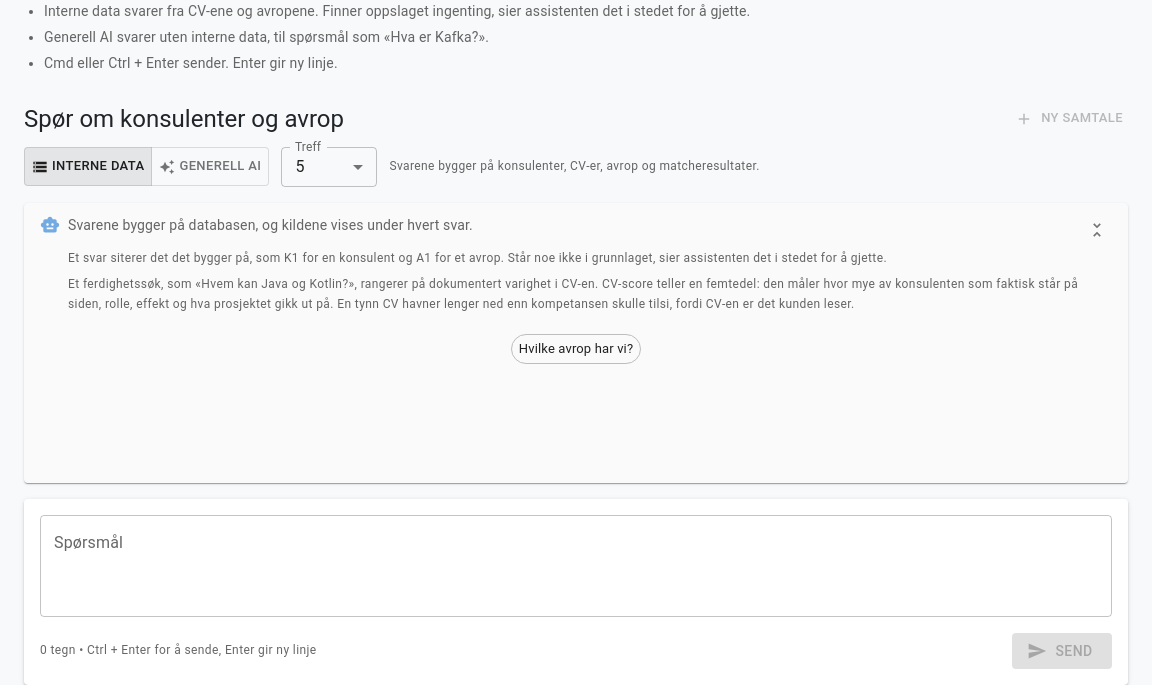
Test: ChatAssistantPage › does not repeat a compared consultant as a source chip
(page scrolled)
Replace the text in the text box labelled "Spørsmål" with "Hvem passer best?" at (576,566), box [54,531,1098,600]
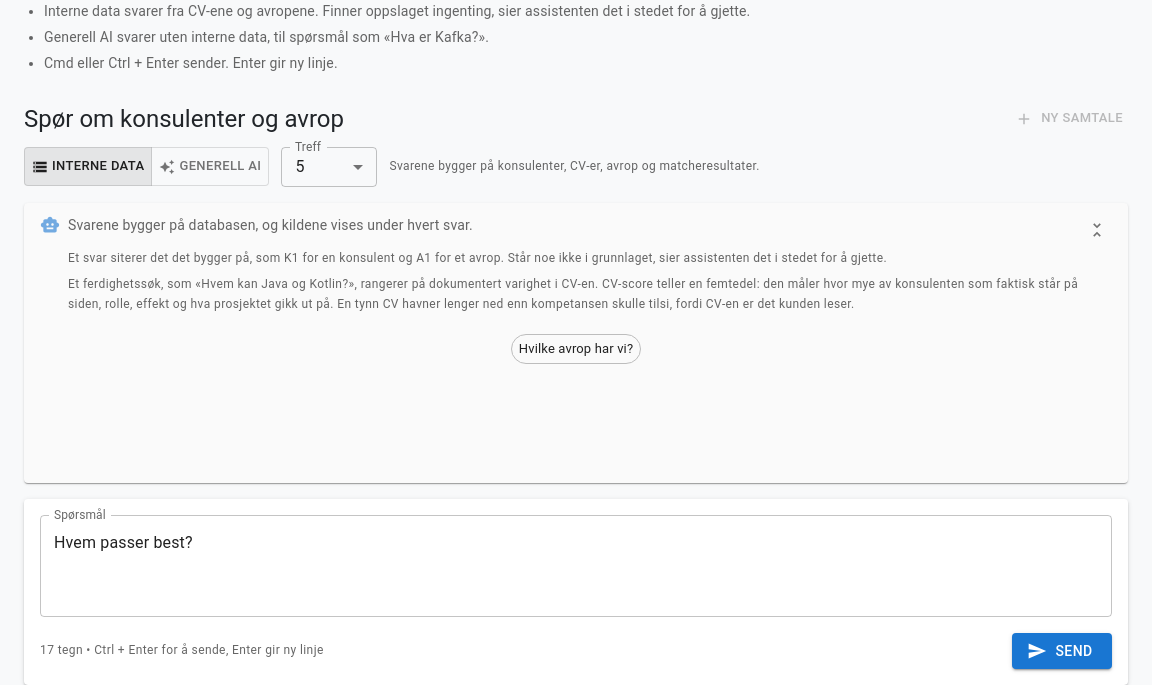
Click the button "Send".
click(1062, 651)  # box [1012,633,1112,669]
(page scrolled)
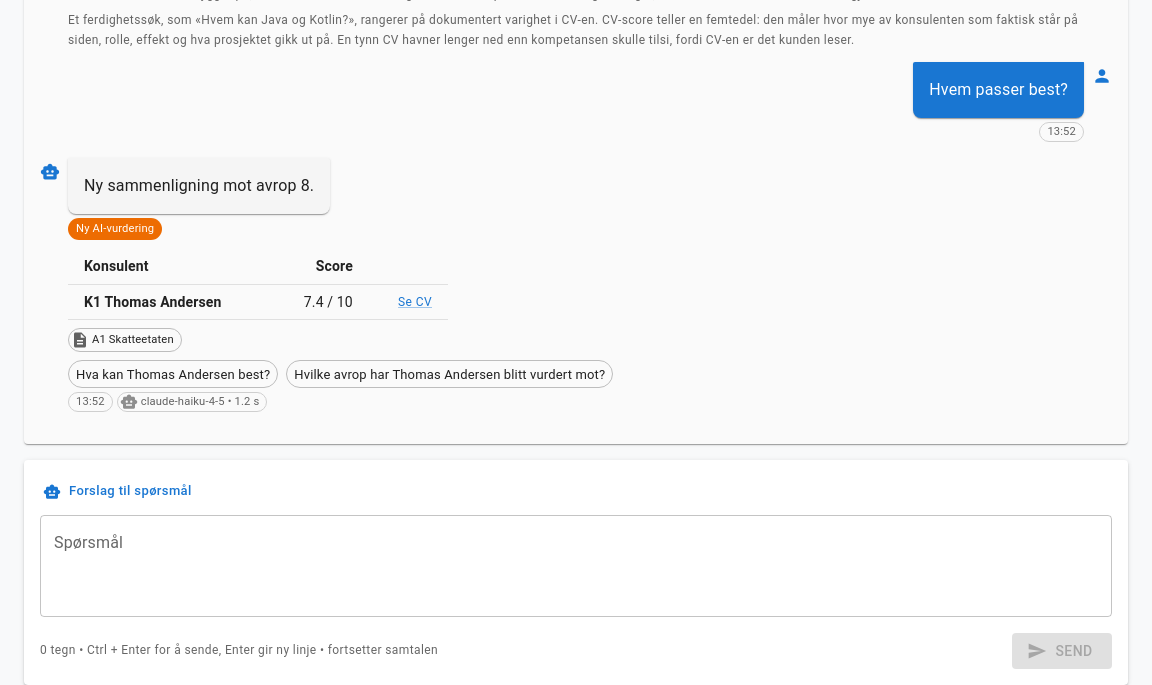
Result: the text "K1 Thomas Andersen" is shown once at [84,294,222,310]
Result: the text "A1 Skatteetaten" is shown at [85,332,181,349]
